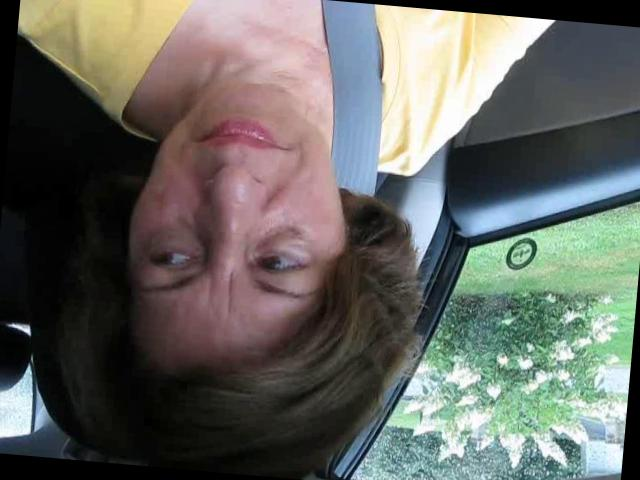eye_open: (243, 241, 320, 282), (138, 238, 202, 278)
face: (120, 67, 356, 339)
